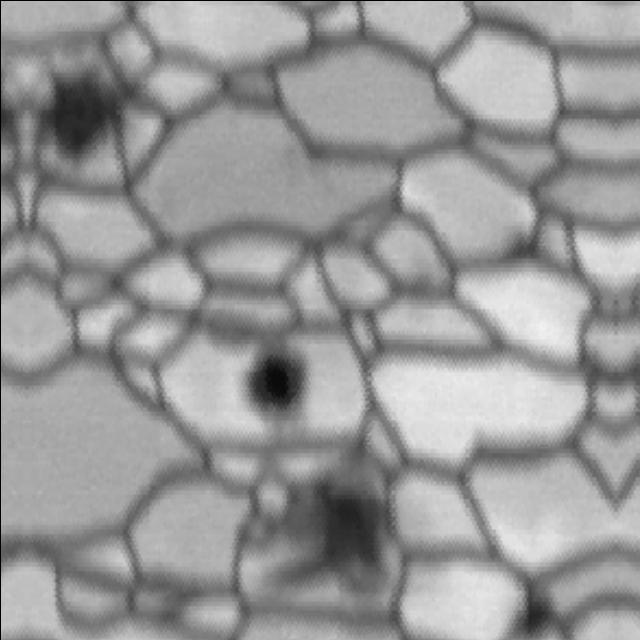good_void: (218, 452, 399, 623), (40, 62, 142, 171), (231, 344, 307, 424), (502, 576, 565, 640), (495, 223, 546, 274)
